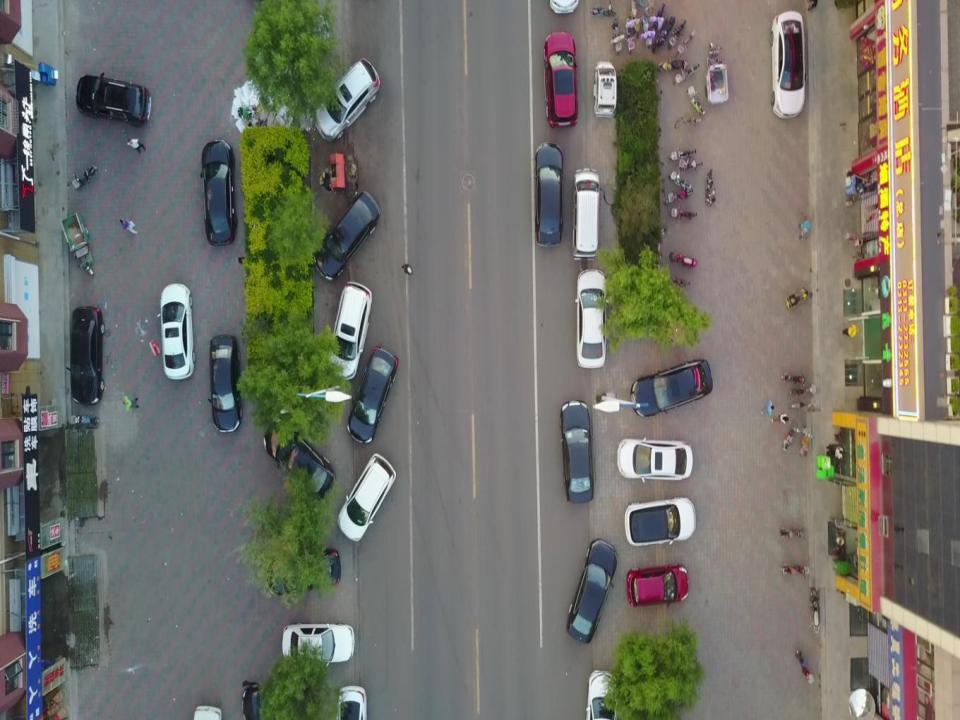car: (265, 424, 336, 506), (628, 360, 720, 418), (320, 191, 377, 280), (316, 60, 380, 138), (340, 457, 396, 542), (351, 337, 397, 440), (325, 284, 372, 382), (553, 399, 595, 505), (199, 137, 237, 245), (72, 81, 151, 129), (770, 15, 806, 119), (572, 546, 611, 641), (207, 332, 243, 433), (574, 273, 609, 371), (158, 285, 194, 380), (625, 500, 701, 544), (72, 308, 106, 406), (536, 142, 567, 246), (540, 37, 576, 125), (617, 440, 696, 480), (279, 628, 370, 662), (631, 565, 695, 609), (576, 172, 600, 254), (592, 59, 616, 118)
truck: (674, 159, 705, 173), (671, 171, 691, 191), (665, 191, 690, 205)
